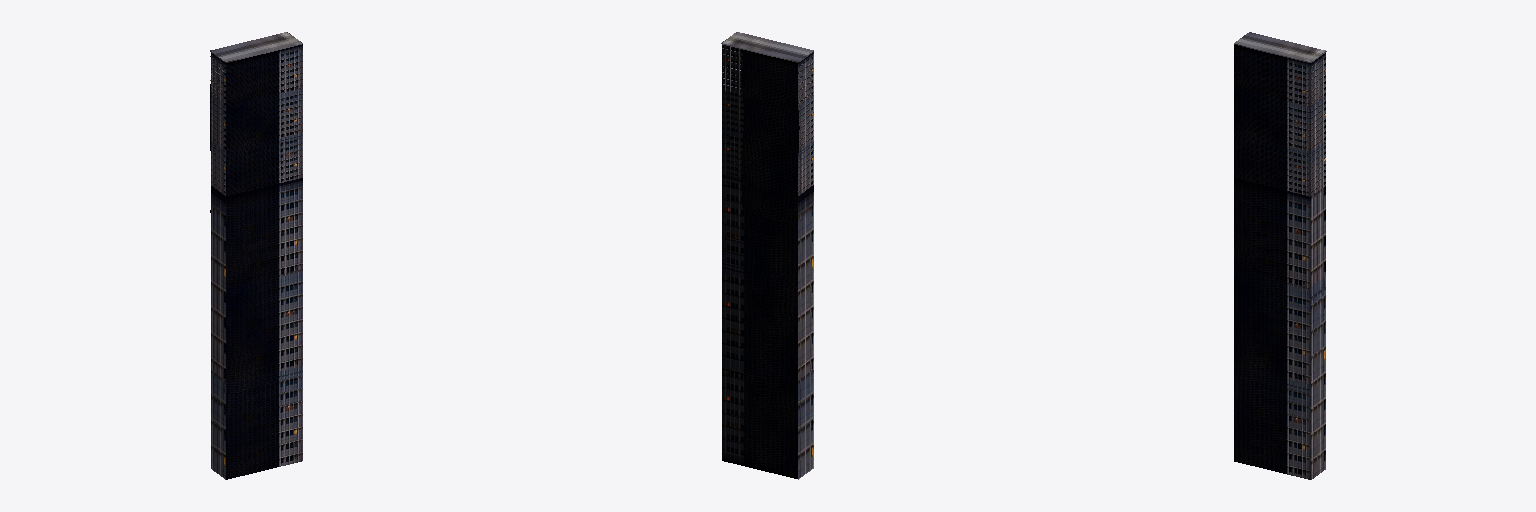
The picture shows the model from 3 angles: view 1: azimuth 30°, elevation 25°; view 2: azimuth 150°, elevation 25°; view 3: azimuth 330°, elevation 25°; orthographic projection.
Bounding box in the file's own units: 70.81 × 362 × 25.03.
Materials: 1 (1 with a texture image).